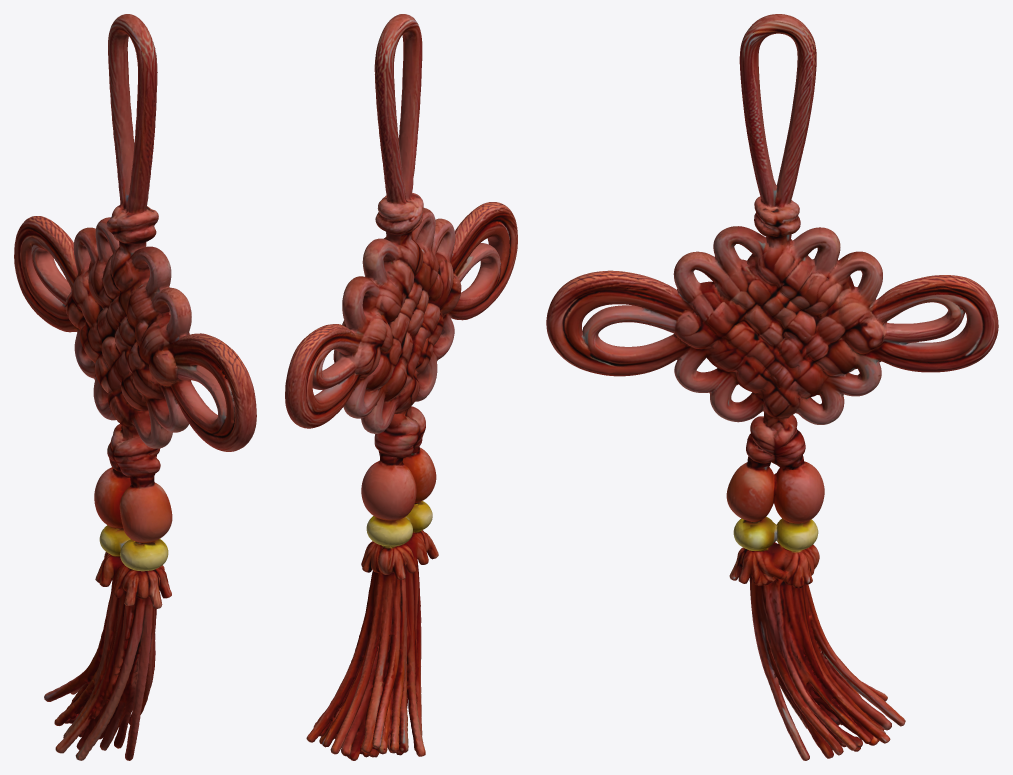
File: zhongguojie.glb
3 views of the same model, side by side, from view 1: azimuth 30°, elevation 25°; view 2: azimuth 150°, elevation 25°; view 3: azimuth 270°, elevation 25° (orthographic). The views are drawn at different scales.
Parts seen in each view (by area): view 1: tripo_node_6a8b5bff-9485-43d5-be9d-0f287c0393c2; view 2: tripo_node_6a8b5bff-9485-43d5-be9d-0f287c0393c2; view 3: tripo_node_6a8b5bff-9485-43d5-be9d-0f287c0393c2.
Boxes of the visible parts, bbox=[...] form: tripo_node_6a8b5bff-9485-43d5-be9d-0f287c0393c2: bbox=[14, 14, 256, 760]; tripo_node_6a8b5bff-9485-43d5-be9d-0f287c0393c2: bbox=[285, 14, 517, 760]; tripo_node_6a8b5bff-9485-43d5-be9d-0f287c0393c2: bbox=[546, 14, 998, 760].
Bounding box in the file's own units: 0.1414 × 1 × 0.5533.
1 material, 1 textured.
